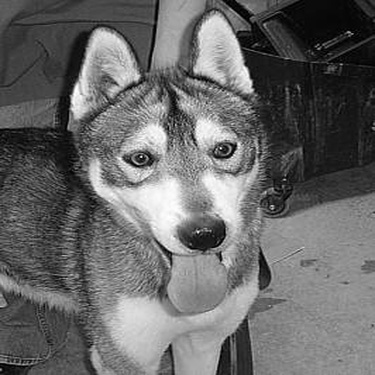dog: (1, 5, 277, 371)
